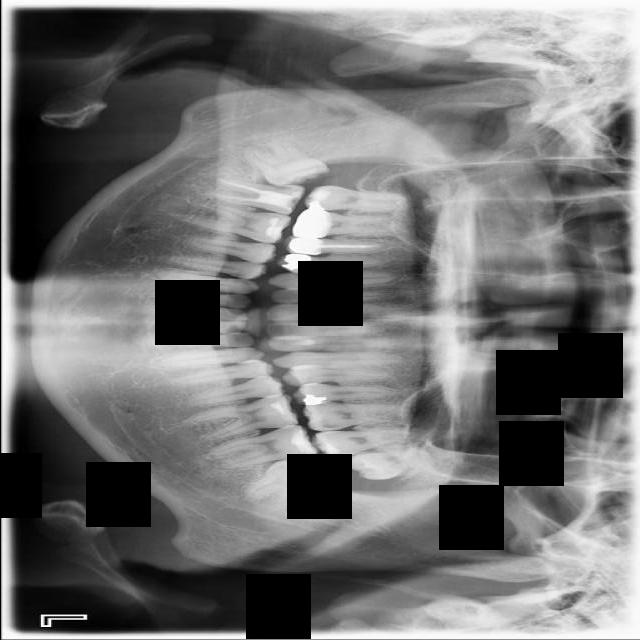52: (266, 415, 321, 471), (259, 172, 309, 225), (245, 207, 294, 247), (251, 392, 300, 431), (298, 184, 349, 212), (311, 430, 359, 458), (289, 210, 336, 238), (275, 250, 321, 275), (267, 333, 321, 354), (290, 383, 333, 405), (282, 235, 326, 256)
73: (195, 171, 274, 211), (324, 237, 389, 255), (90, 603, 99, 607)
BioHorizons Implant: (310, 419, 422, 461)
BioLife Implant: (342, 441, 436, 485)
Biomet 3i Implant: (233, 438, 338, 529)
Blue Sky Bio Implant: (203, 421, 320, 473)
Caries: (301, 186, 409, 214)
Implant: (196, 173, 305, 217)
Keystone Dental Implant: (235, 120, 331, 208)
